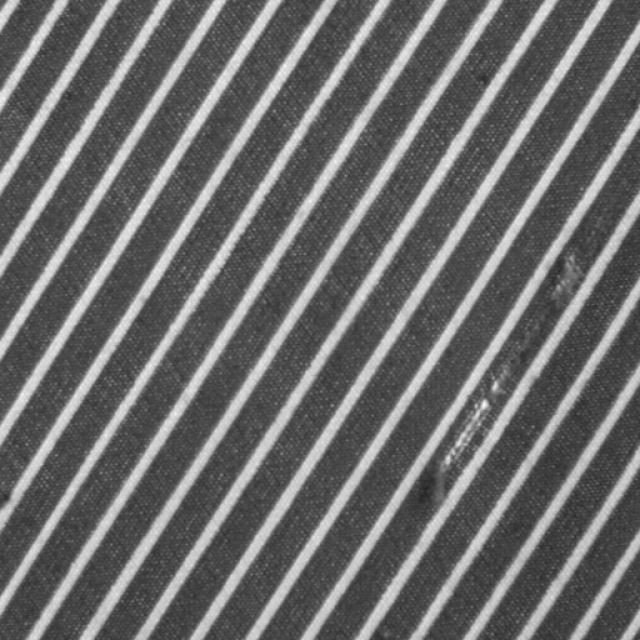Thread-Defect: (420, 251, 582, 509)
